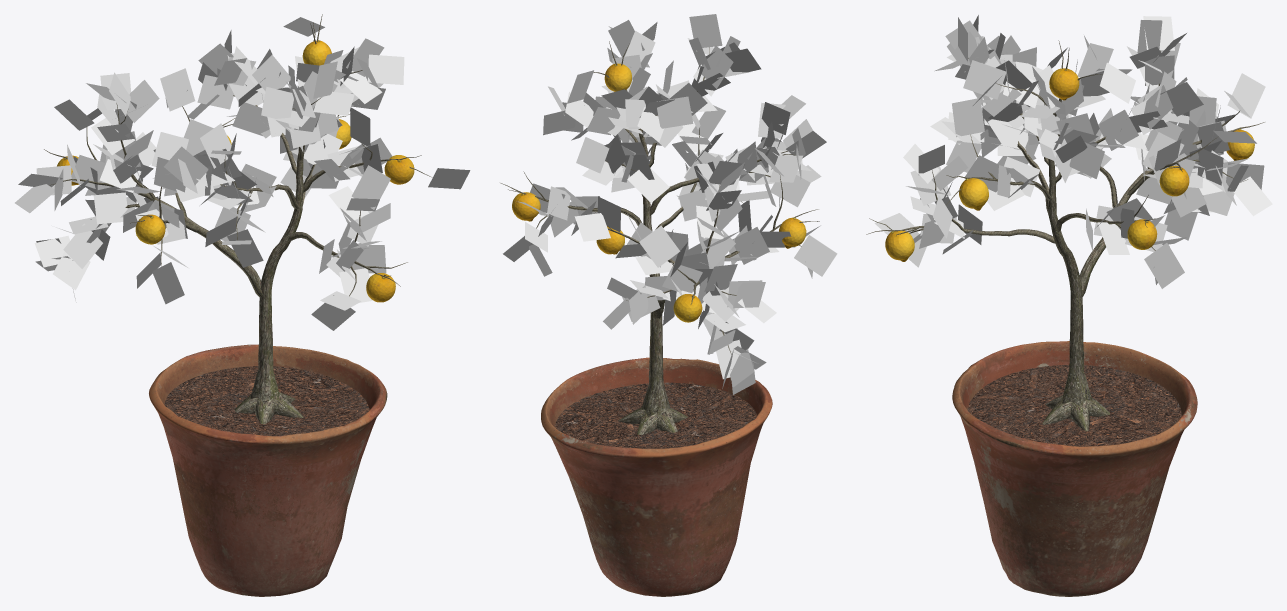
File: LemonTreeFirst.fbx
3 renders of one model, left to right at view 1: azimuth 30°, elevation 25°; view 2: azimuth 150°, elevation 25°; view 3: azimuth 270°, elevation 25°, orthographic. The views are drawn at different scales.
Parts seen in each view (by area): view 1: foliage.006, pot, structure.006, fruit.006; view 2: foliage.006, pot, structure.006, fruit.006; view 3: foliage.006, pot, structure.006, fruit.006.
Part boxes in pixels (x1,y1,x2,y2): foliage.006: (15, 17, 470, 330); pot: (149, 344, 387, 596); structure.006: (44, 14, 432, 424); fruit.006: (57, 40, 414, 302); foliage.006: (503, 14, 837, 394); pot: (541, 357, 772, 596); structure.006: (500, 41, 819, 434); fruit.006: (512, 63, 806, 322); foliage.006: (874, 15, 1272, 288); pot: (952, 341, 1197, 596); structure.006: (866, 40, 1264, 431); fruit.006: (885, 68, 1254, 261).
Size of the model in its own units: 102 by 169 by 112.
